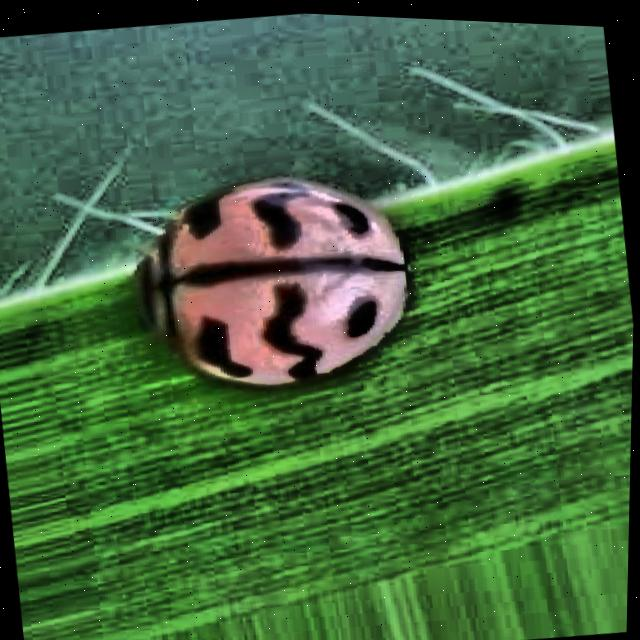Asian-Lady-beetle: (98, 146, 437, 410)
